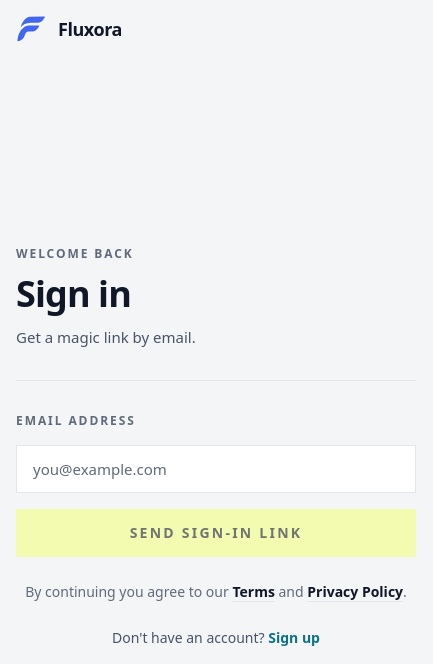
sign-in page › switches between signing in and signing up
This screenshot has width=433, height=664.
Check: the heading "Sign in" is shown, box [16,269,131,318]
Click the link "Sign up" at (294, 638), box [268,628,320,647]
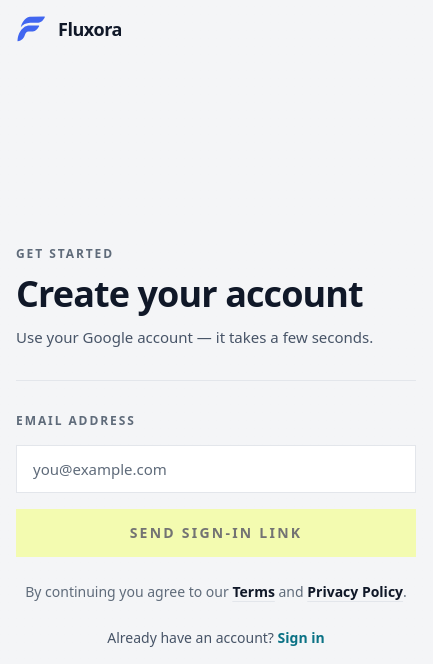
Check: the heading "Create your account" is shown, box [16,274,416,314]
Click the link "Sign in" at (301, 638), box [278,628,325,647]
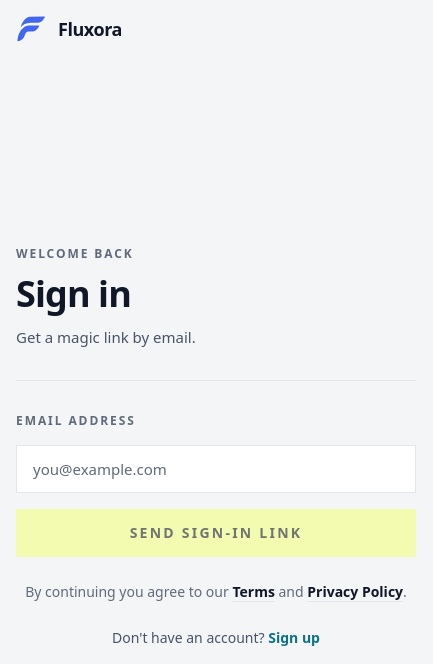
Check: the heading "Sign in" is shown, box [16,269,131,318]
